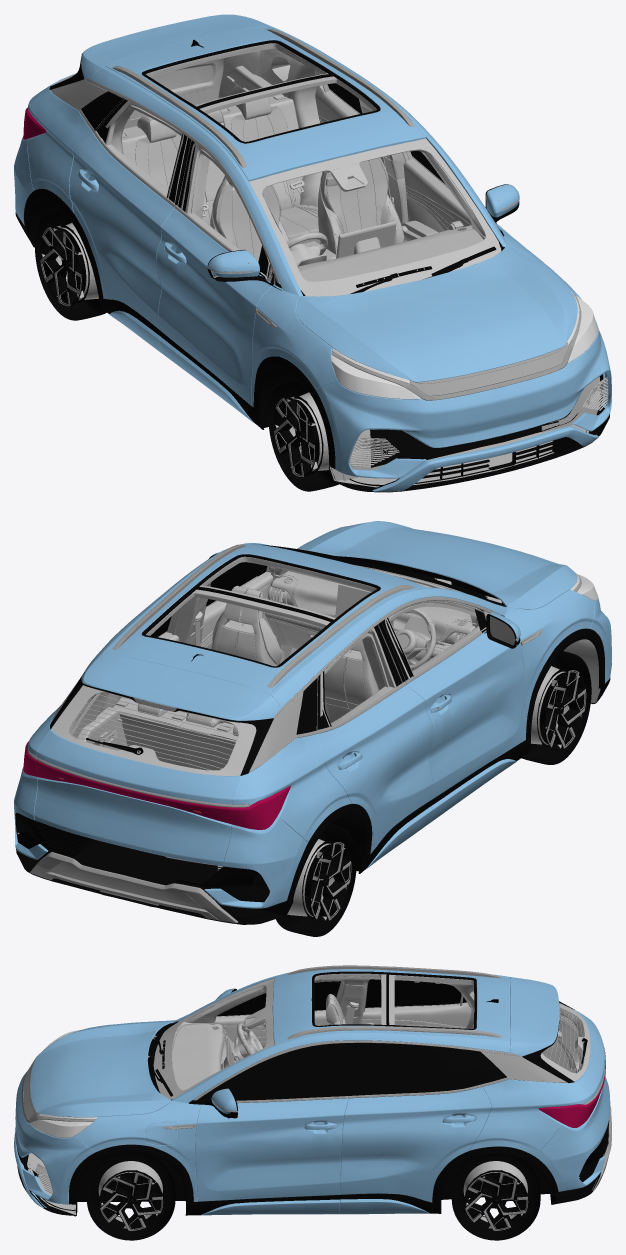
File: atto3.glb
The picture shows the model from 3 angles, top to bottom: view 1: azimuth 30°, elevation 25°; view 2: azimuth 150°, elevation 25°; view 3: azimuth 270°, elevation 25°; orthographic projection. The views are drawn at different scales.
Visible parts, largest first — view 1: Object_4; view 2: Object_4; view 3: Object_4.
Part boxes in pixels (x1,y1,x2,y2): Object_4: (14,14,611,492); Object_4: (14,521,611,936); Object_4: (14,965,611,1240).
Bounding box in the file's own units: 2.07 × 1.6 × 4.45.
